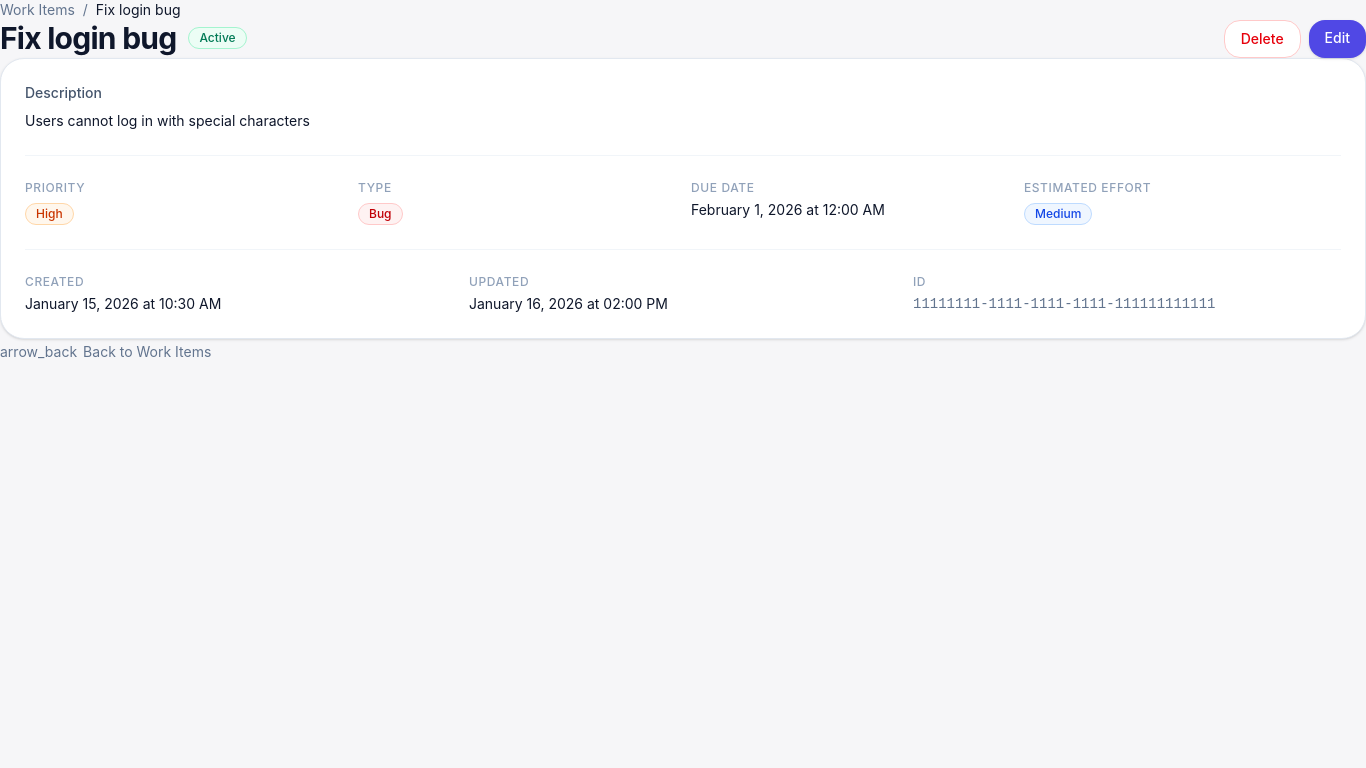
WorkItemDetail › shows delete dialog when delete button is clicked
The image size is (1366, 768).
Click the button "Delete": [1262, 39] box [1224,20,1301,58]
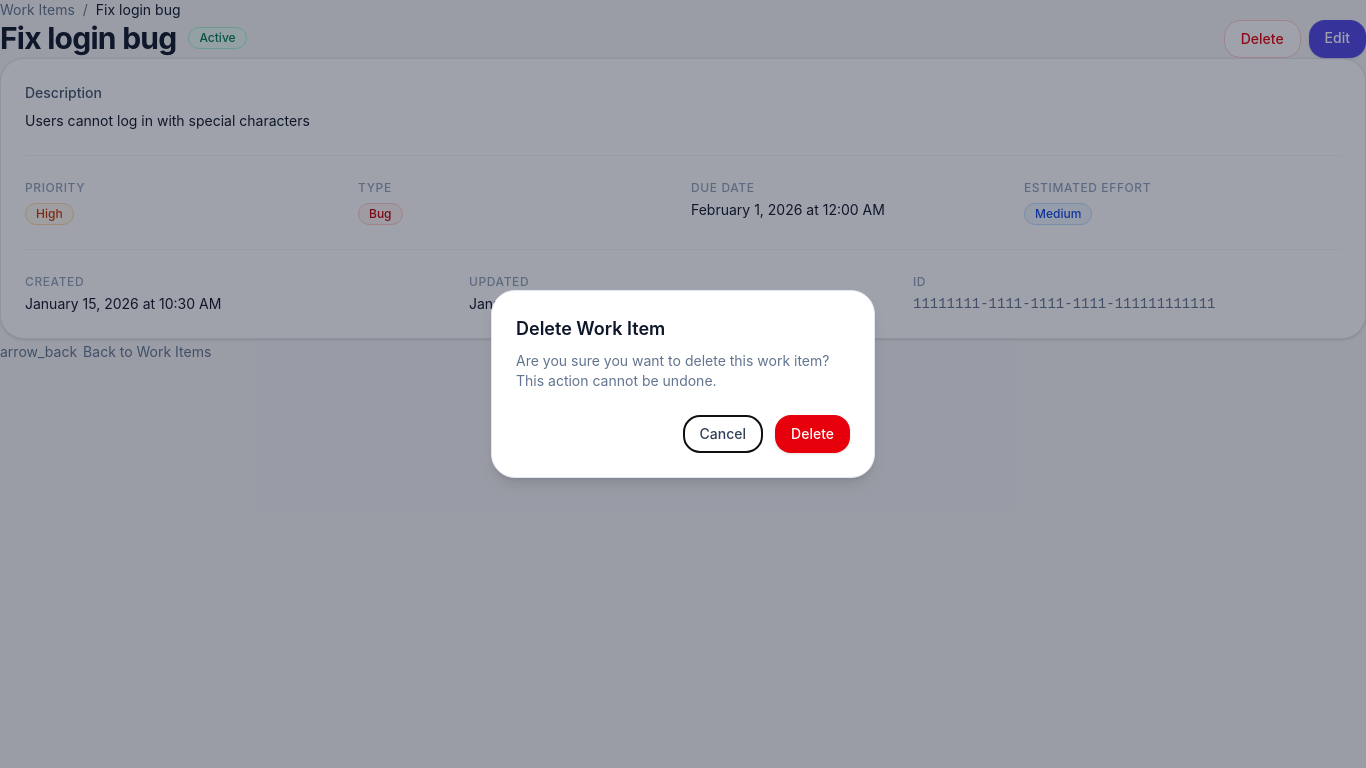
Expected: the heading "Delete Work Item" is shown, [516,318,665,339]
Expected: the text "Are you sure you want to delete this work item? This action cannot be undone." is shown, [516,351,850,391]
